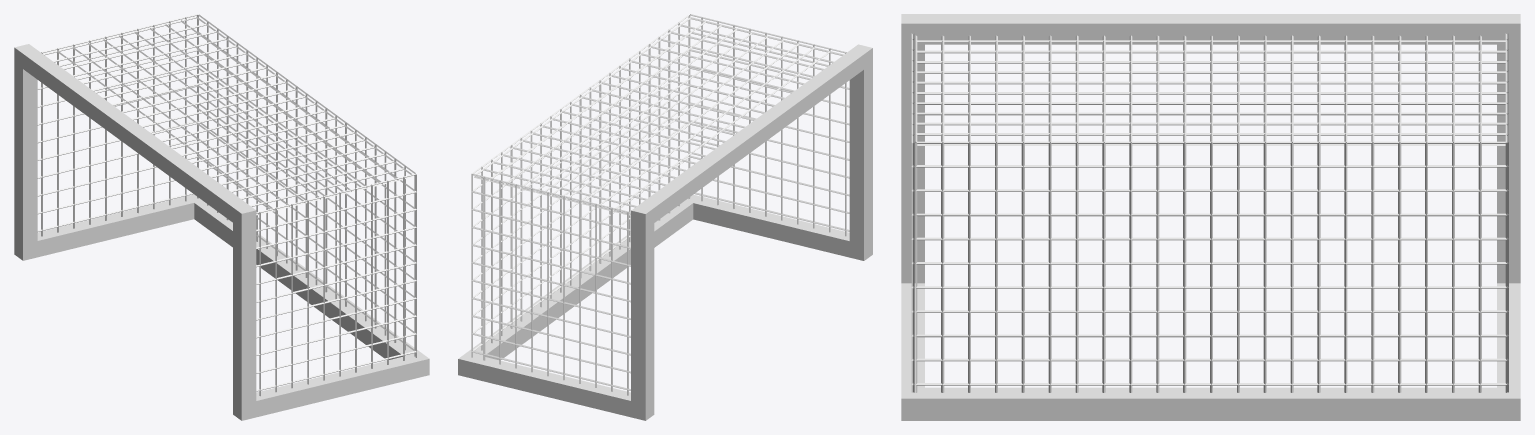
File: Goalie.fbx
3 renders of one model, left to right at view 1: azimuth 30°, elevation 25°; view 2: azimuth 150°, elevation 25°; view 3: azimuth 270°, elevation 25°, orthographic. The views are drawn at different scales.
Parts seen in each view (by area): view 1: Plane.007, Cube.081; view 2: Plane.007, Cube.081; view 3: Plane.007, Cube.081.
Part boxes in pixels (x1,y1,x2,y2): Plane.007: (37, 14, 416, 396); Cube.081: (14, 44, 429, 420); Plane.007: (471, 14, 849, 395); Cube.081: (458, 44, 872, 420); Plane.007: (911, 33, 1508, 392); Cube.081: (901, 14, 1520, 420).
Bounding box in the file's own units: 135 × 64.26 × 67.7.
